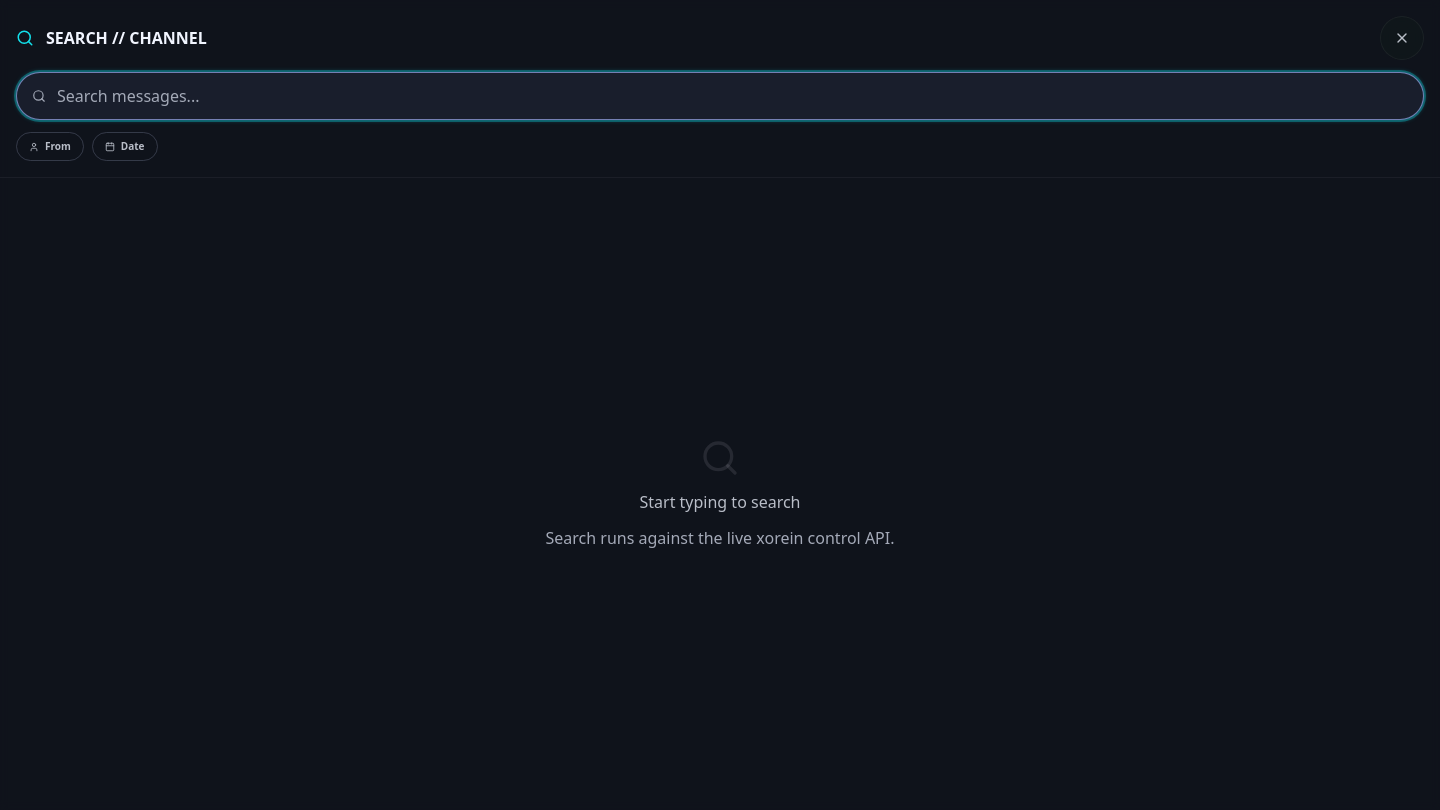
Scenario: SearchPanel › searches native P2P messages via the mutation facade
Type "runtime" into the field with placeholder "Search messages..." at (720, 96), box top-left (16, 72), bottom-right (1424, 120)
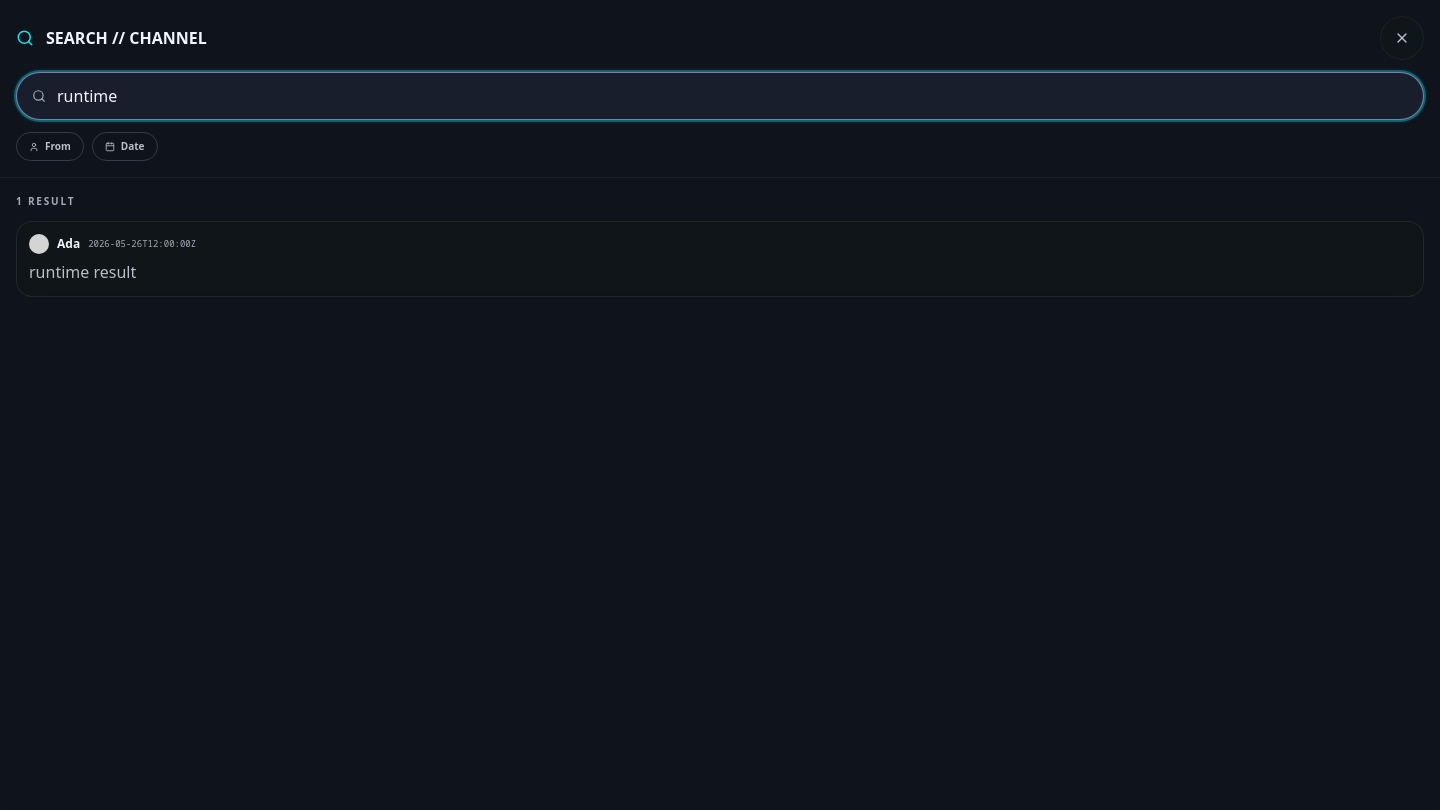
Check: the text "runtime result" is shown, box top-left (29, 261), bottom-right (136, 283)
Check: the text "Ada" is shown, box top-left (57, 236), bottom-right (80, 252)
